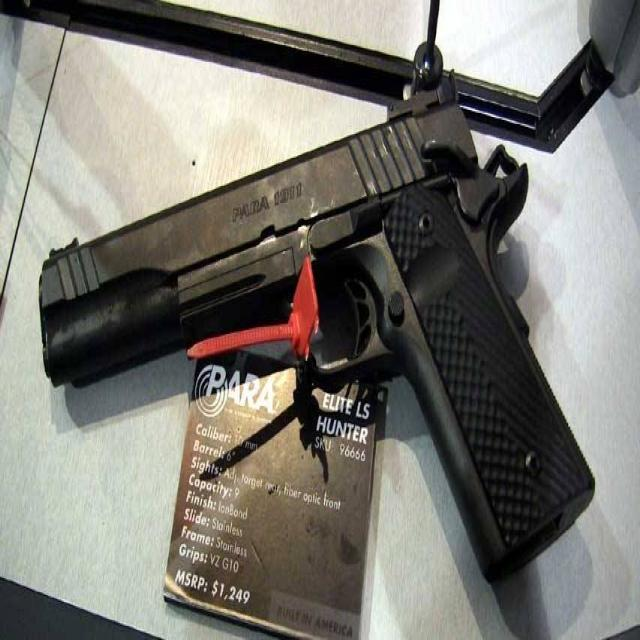pistol: (40, 69, 596, 582)
